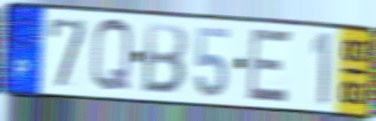1: (310, 29, 333, 109)
5: (193, 24, 231, 100)
7: (46, 16, 89, 89)
B: (139, 21, 190, 97)
E: (245, 26, 294, 105)
Q: (88, 15, 134, 96)
